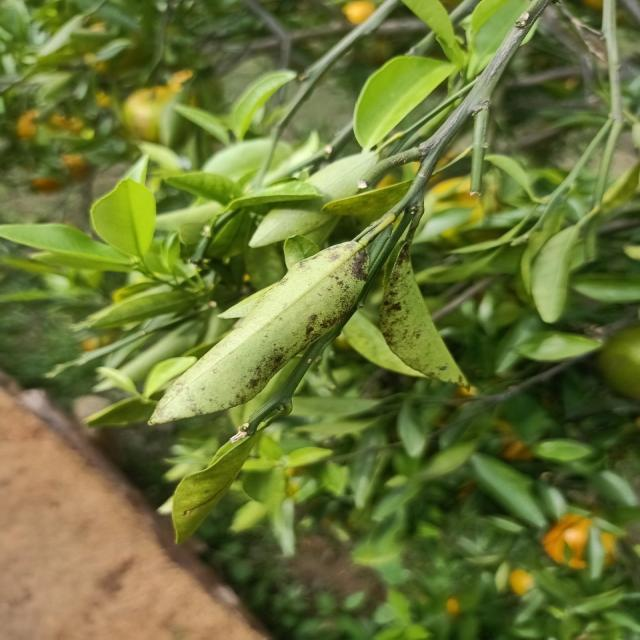melanose: (145, 232, 376, 438), (366, 243, 477, 407)
